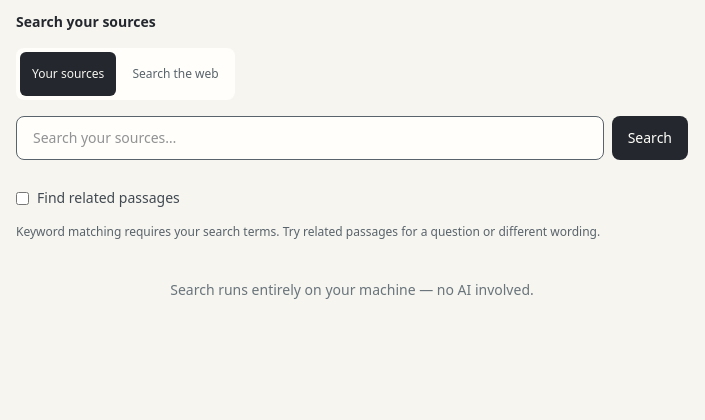
it: search shows skeleton (not bare spinner text) while searching
The width and height of the screenshot is (705, 420).
In the search field with placeholder "Search your sources…": (310, 138) [16, 116, 604, 160], type "cells"
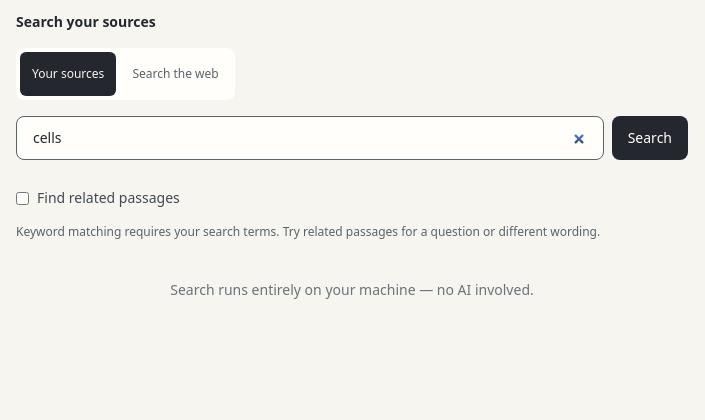
Click the button with aria-label "Submit search": click(650, 138) [612, 116, 688, 160]
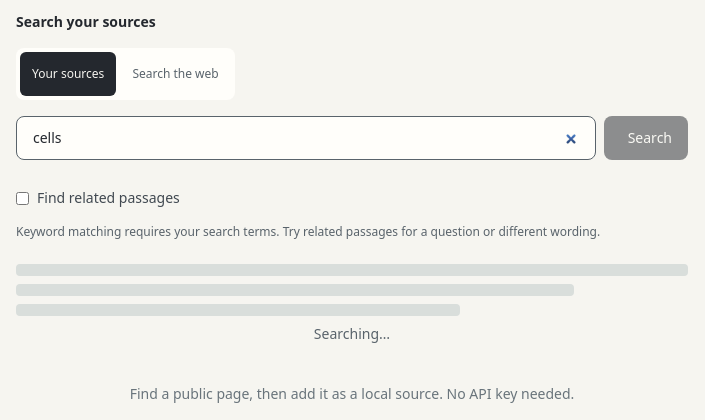
Now the message with test id "skeleton" is shown, box [16, 264, 688, 316]
